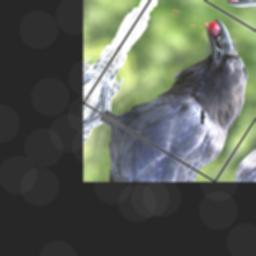Crow: (85, 0, 256, 176)
